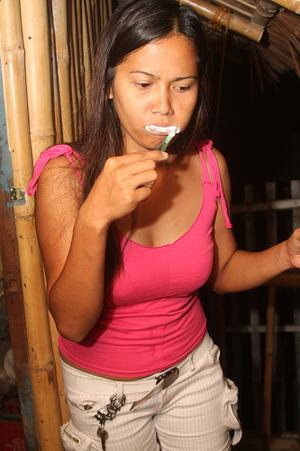person: (34, 3, 300, 451)
